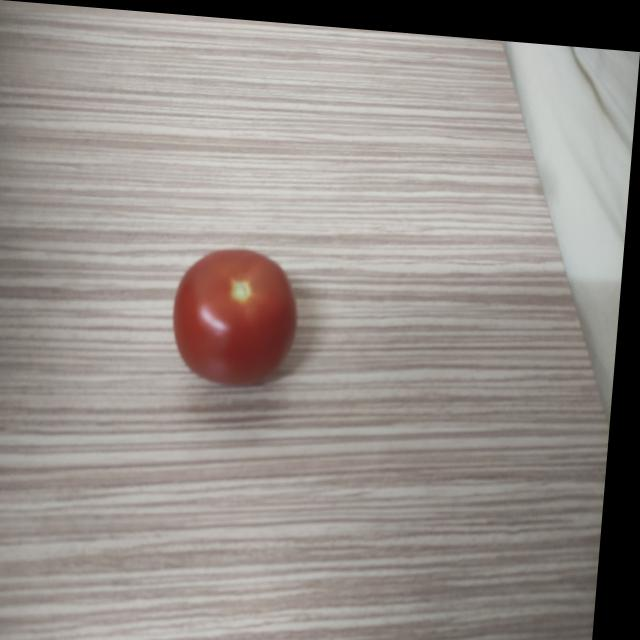kirmizi: (160, 231, 322, 399)
